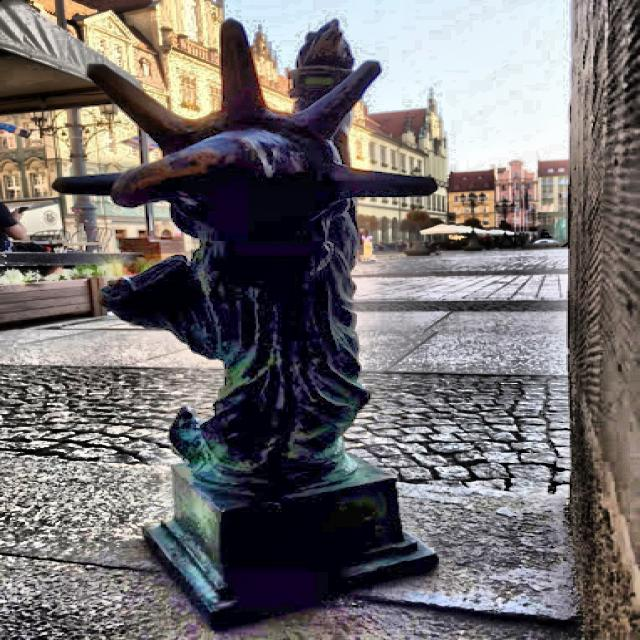LadyWolnosc: (53, 21, 437, 624)
